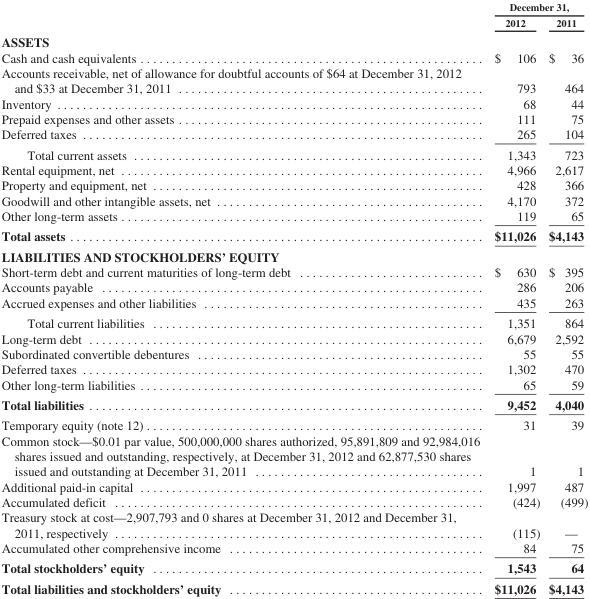table: (0, 0, 587, 595)
table column: (0, 0, 486, 595), (486, 0, 543, 595), (543, 0, 587, 595)
table column header: (0, 0, 587, 31)
table projected row header: (0, 31, 587, 49), (0, 246, 587, 264)
table row: (0, 432, 587, 478), (0, 64, 587, 95), (0, 509, 587, 539), (0, 225, 587, 246), (0, 557, 587, 578), (0, 394, 587, 414), (0, 31, 587, 49), (0, 126, 587, 144), (0, 207, 587, 225), (0, 246, 587, 264), (0, 294, 587, 312), (0, 312, 587, 330), (0, 376, 587, 394), (0, 414, 587, 432), (0, 539, 587, 557), (0, 14, 587, 31), (0, 144, 587, 161), (0, 578, 587, 595), (0, 110, 587, 126), (0, 161, 587, 177), (0, 345, 587, 361), (0, 493, 587, 509), (0, 49, 587, 64), (0, 95, 587, 110), (0, 177, 587, 192), (0, 192, 587, 207), (0, 264, 587, 279), (0, 279, 587, 294), (0, 330, 587, 345), (0, 361, 587, 376), (0, 478, 587, 493), (0, 0, 587, 14)
table spanning cell: (486, 0, 587, 14)
